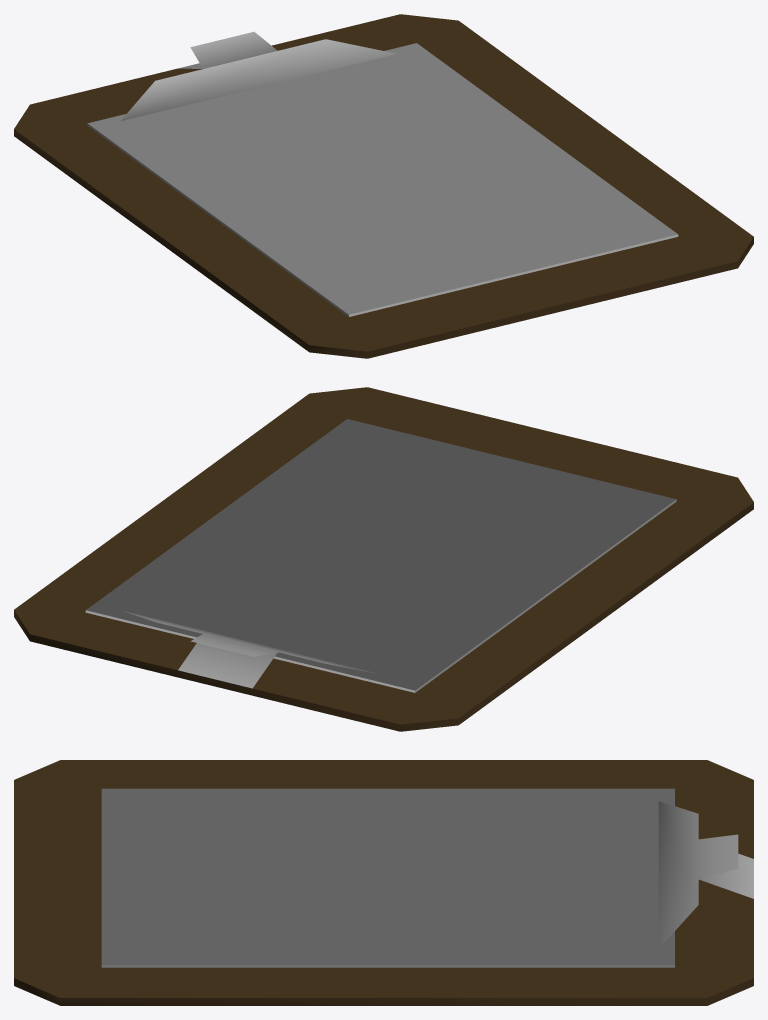
File: clipboard.glb
3 renders of one model, top to bottom at view 1: azimuth 30°, elevation 25°; view 2: azimuth 150°, elevation 25°; view 3: azimuth 270°, elevation 25°, orthographic. The views are drawn at different scales.
Parts seen in each view (by area): view 1: body; view 2: body; view 3: body.
Part boxes in pixels (x1,y1,x2,y2): body: (14,14,753,358); body: (14,387,753,731); body: (14,760,753,1005).
Size of the model in its own units: 0.2434 by 0.0169 by 0.32.
